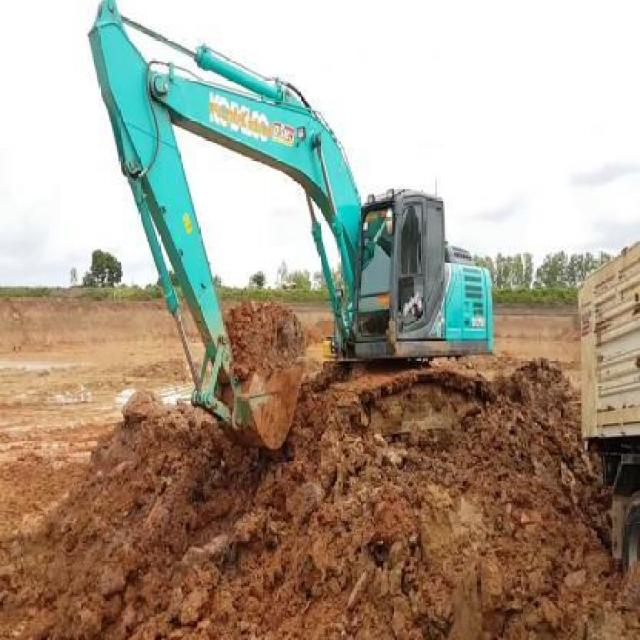Dump Truck: (575, 240, 640, 560)
Excavator: (87, 2, 493, 450)
